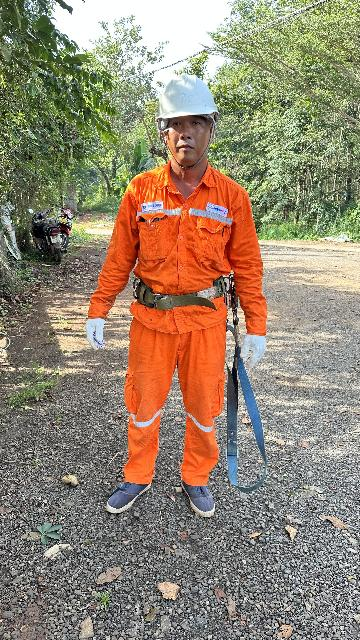gloves: (77, 311, 111, 354), (246, 324, 271, 370)
harness: (124, 269, 248, 317)
helmet: (149, 69, 228, 133)
shoes: (102, 462, 159, 516), (174, 469, 221, 524)
